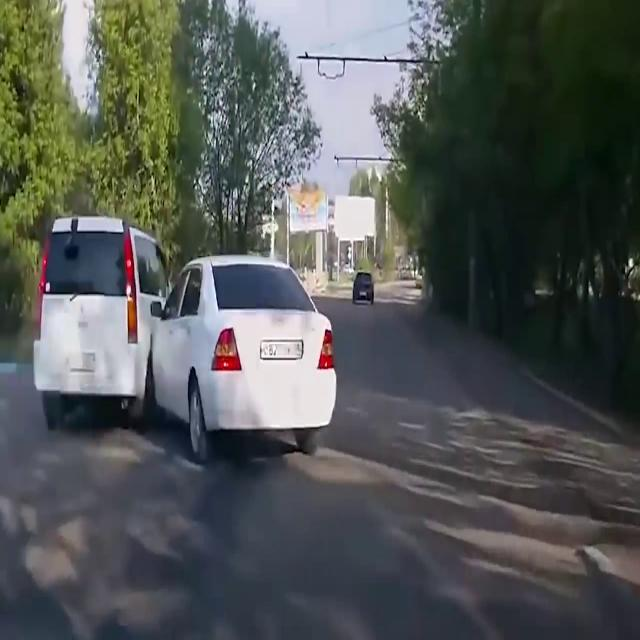multiple_accident: (27, 205, 379, 470)
